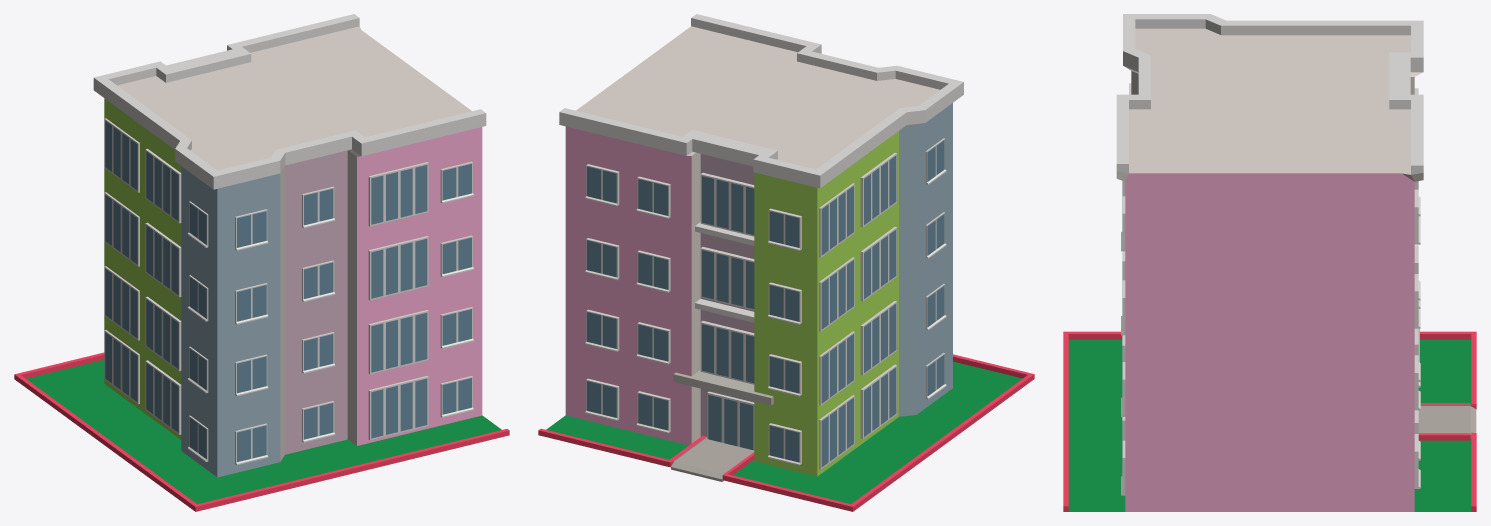
File: apartment_edge.fbx
3 renders of one model, left to right at view 1: azimuth 30°, elevation 25°; view 2: azimuth 150°, elevation 25°; view 3: azimuth 270°, elevation 25°, orthographic. The views are drawn at different scales.
Parts seen in each view (by area): view 1: Appartment, Ground; view 2: Appartment, Ground; view 3: Appartment, Ground.
Part boxes in pixels (x1=…): Appartment: x1=93, y1=14, x2=486, y2=477; Ground: x1=14, y1=352, x2=509, y2=511; Appartment: x1=559, y1=14, x2=963, y2=476; Ground: x1=538, y1=354, x2=1034, y2=511; Appartment: x1=1116, y1=14, x2=1423, y2=511; Ground: x1=1063, y1=331, x2=1476, y2=511.
Size of the model in its own units: 20.17 by 18.7 by 20.
